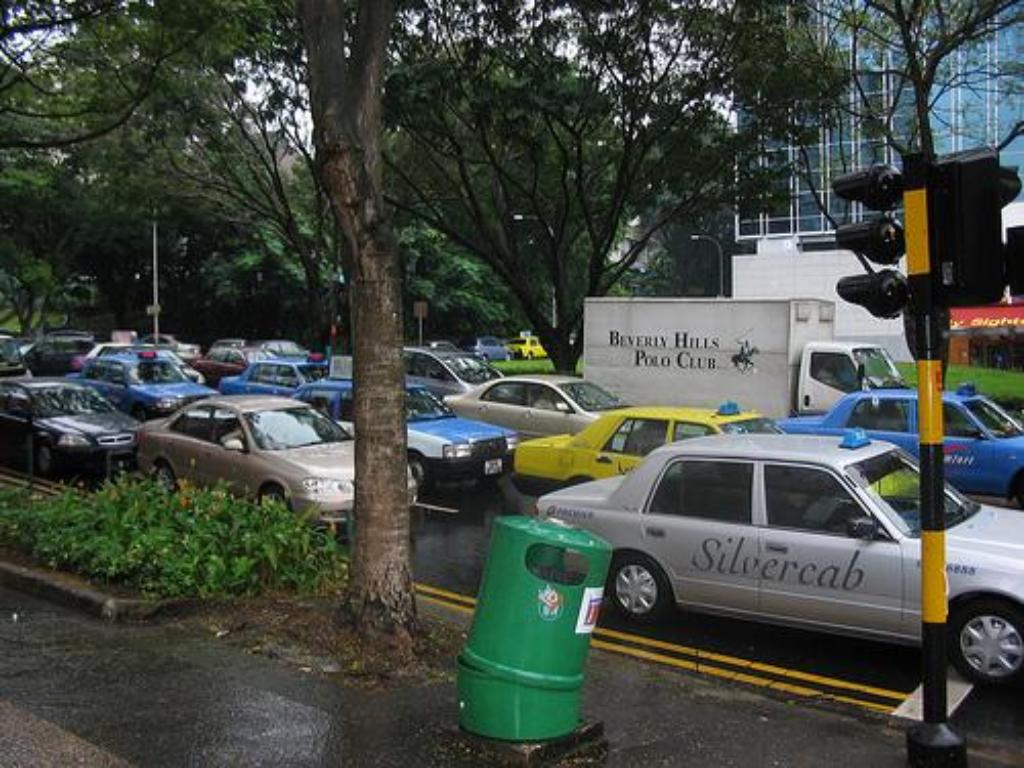dustbin: (449, 509, 627, 759)
